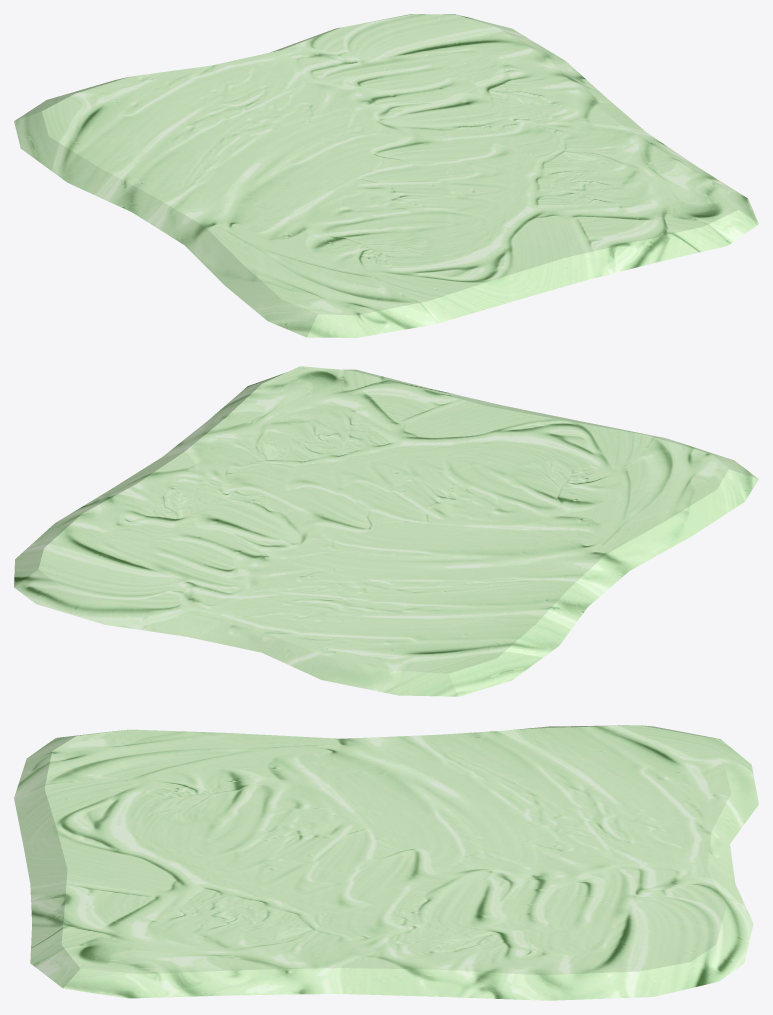
Rendered from matcha.fbx.
3 views of the same model, one above another, from view 1: azimuth 30°, elevation 25°; view 2: azimuth 150°, elevation 25°; view 3: azimuth 270°, elevation 25° (orthographic). The views are drawn at different scales.
Parts seen in each view (by area): view 1: matcha; view 2: matcha; view 3: matcha.
Boxes of the visible parts, left/top/right/bottom form: matcha: left=14, top=14, right=758, bottom=337; matcha: left=14, top=366, right=758, bottom=696; matcha: left=14, top=725, right=758, bottom=1000.
Bounding box in the file's own units: 0.7237 × 0.0162 × 0.8306.
Materials: 1 (1 with a texture image).
